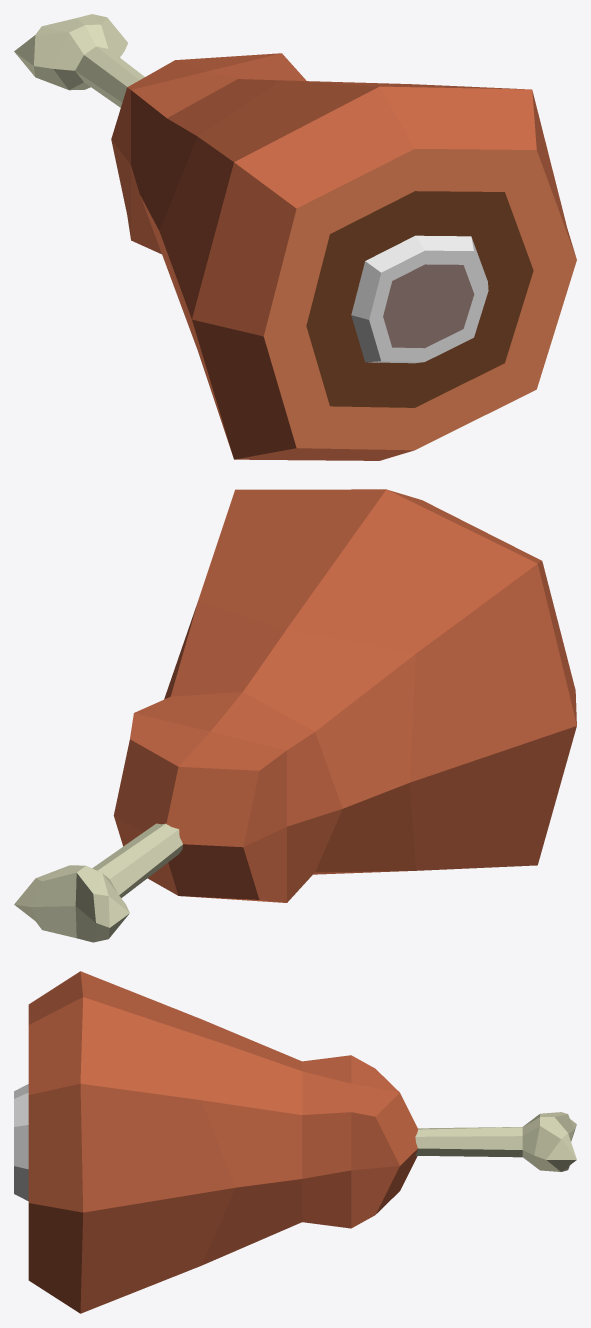
The model's file is Large Cooked Drumstick.fbx.
3 renders of one model, top to bottom at view 1: azimuth 30°, elevation 25°; view 2: azimuth 150°, elevation 25°; view 3: azimuth 270°, elevation 25°, orthographic. The views are drawn at different scales.
Parts seen in each view (by area): view 1: Large Cooked Drumstick; view 2: Large Cooked Drumstick; view 3: Large Cooked Drumstick.
Boxes of the visible parts, x1,y1,x2,y2 form: Large Cooked Drumstick: (14, 14, 576, 460); Large Cooked Drumstick: (14, 489, 576, 942); Large Cooked Drumstick: (14, 971, 576, 1313).
Size of the model in its own units: 21.46 by 20.45 by 36.03.
